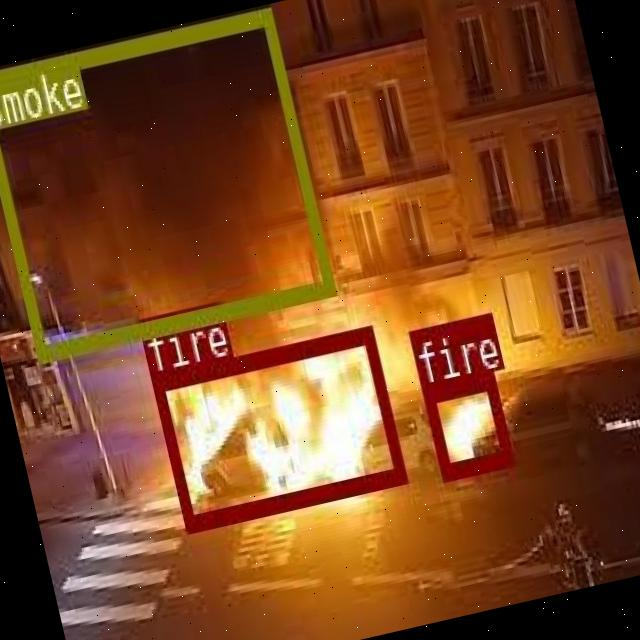fire: (150, 324, 402, 528), (420, 368, 511, 478)
smoke: (0, 5, 332, 359)
